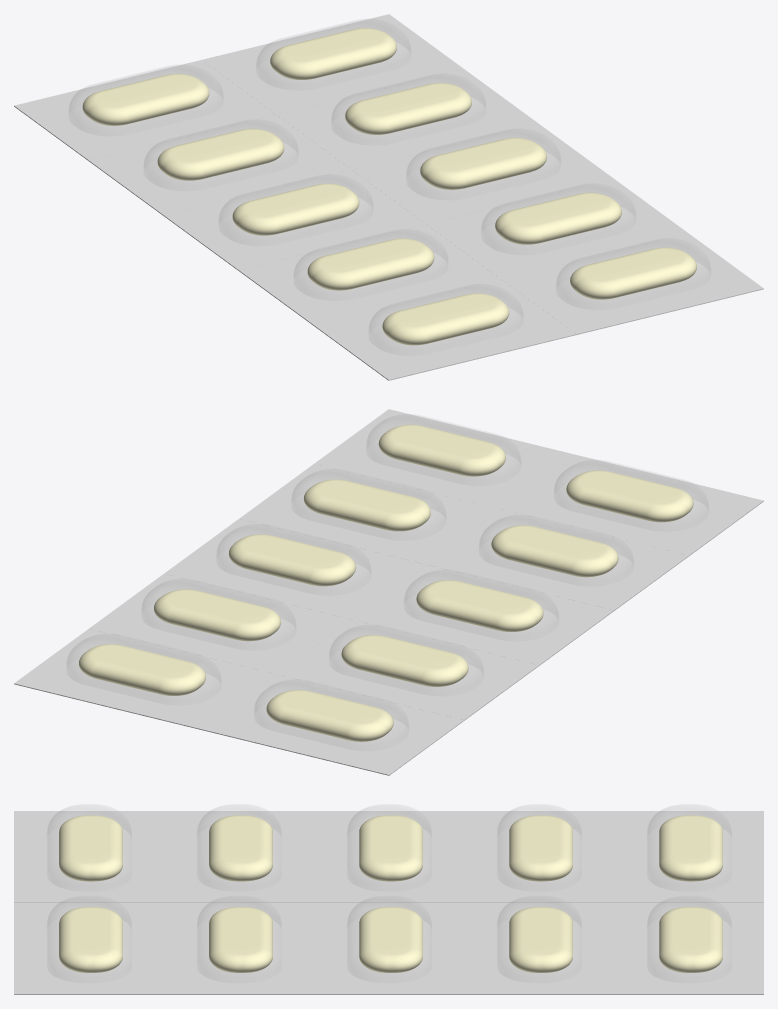
The model's file is Capsule_Pill_2x5_Beige.glb.
3 renders of one model, top to bottom at view 1: azimuth 30°, elevation 25°; view 2: azimuth 150°, elevation 25°; view 3: azimuth 270°, elevation 25°, orthographic.
Parts seen in each view (by area): view 1: Capsule_Pill_Base_2x5, Capsule_Pill_2x5, Capsule_Pill_Lid_2x5, Capsule_Pill_Shell_2x5; view 2: Capsule_Pill_Base_2x5, Capsule_Pill_2x5, Capsule_Pill_Lid_2x5, Capsule_Pill_Shell_2x5; view 3: Capsule_Pill_Base_2x5, Capsule_Pill_2x5, Capsule_Pill_Lid_2x5, Capsule_Pill_Shell_2x5.
Part boxes in pixels (<box>): Capsule_Pill_Base_2x5: <box>14,14,763,380</box>; Capsule_Pill_2x5: <box>82,28,696,345</box>; Capsule_Pill_Lid_2x5: <box>68,42,711,355</box>; Capsule_Pill_Shell_2x5: <box>69,19,710,333</box>; Capsule_Pill_Base_2x5: <box>14,409,763,775</box>; Capsule_Pill_2x5: <box>79,424,693,741</box>; Capsule_Pill_Lid_2x5: <box>66,437,708,751</box>; Capsule_Pill_Shell_2x5: <box>67,414,708,729</box>; Capsule_Pill_Base_2x5: <box>14,811,763,994</box>; Capsule_Pill_2x5: <box>59,815,722,972</box>; Capsule_Pill_Lid_2x5: <box>46,826,731,983</box>; Capsule_Pill_Shell_2x5: <box>47,804,731,928</box>.
Bounding box in the file's own units: 6.8 × 0.4666 × 11.77.
